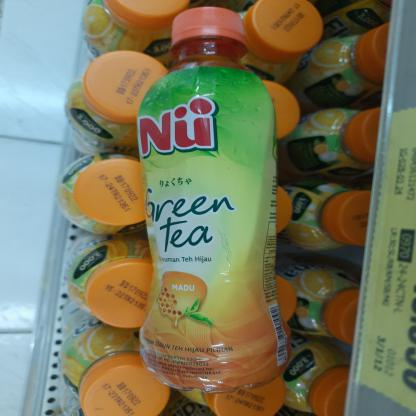plastic: (129, 5, 297, 394)
